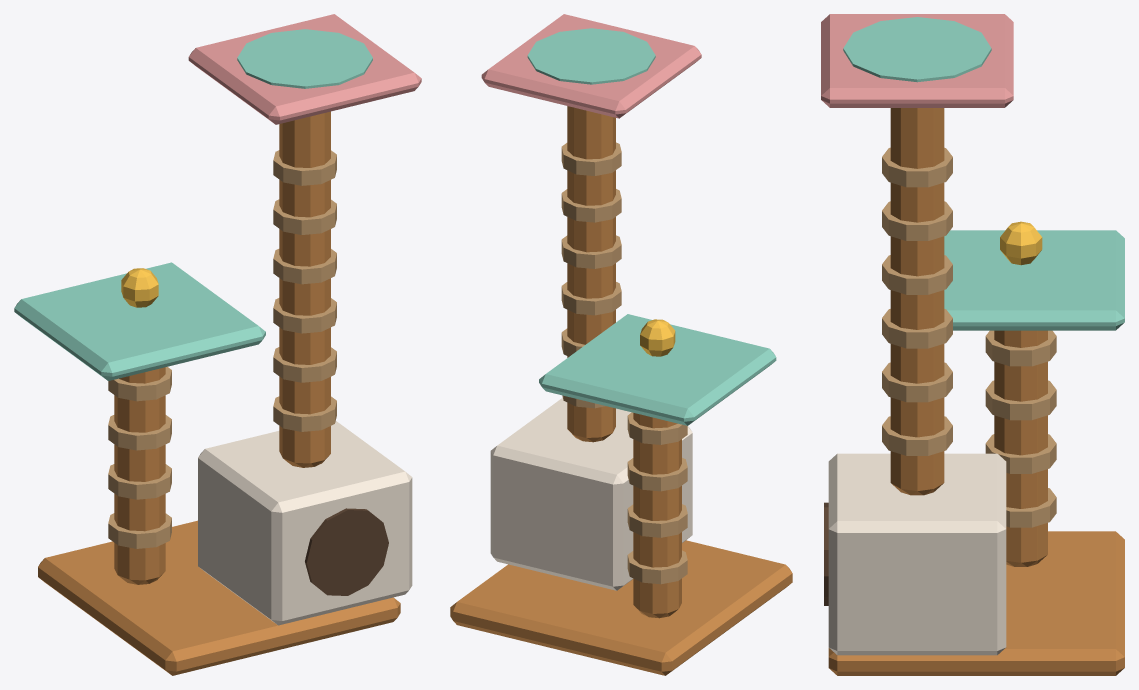
File: CatCafe_Furniture_CatTree.fbx
The picture shows the model from 3 angles, left to right: view 1: azimuth 30°, elevation 25°; view 2: azimuth 150°, elevation 25°; view 3: azimuth 270°, elevation 25°; orthographic projection. The views are drawn at different scales.
Visible parts, largest first — view 1: CatCafe_Furniture_CatTree; view 2: CatCafe_Furniture_CatTree; view 3: CatCafe_Furniture_CatTree.
Part boxes in pixels (x1,y1,x2,y2): CatCafe_Furniture_CatTree: (14, 14, 421, 675); CatCafe_Furniture_CatTree: (450, 14, 792, 675); CatCafe_Furniture_CatTree: (821, 14, 1124, 675).
Bounding box in the file's own units: 2.35 × 4.47 × 2.05.
1 material, 1 textured.
